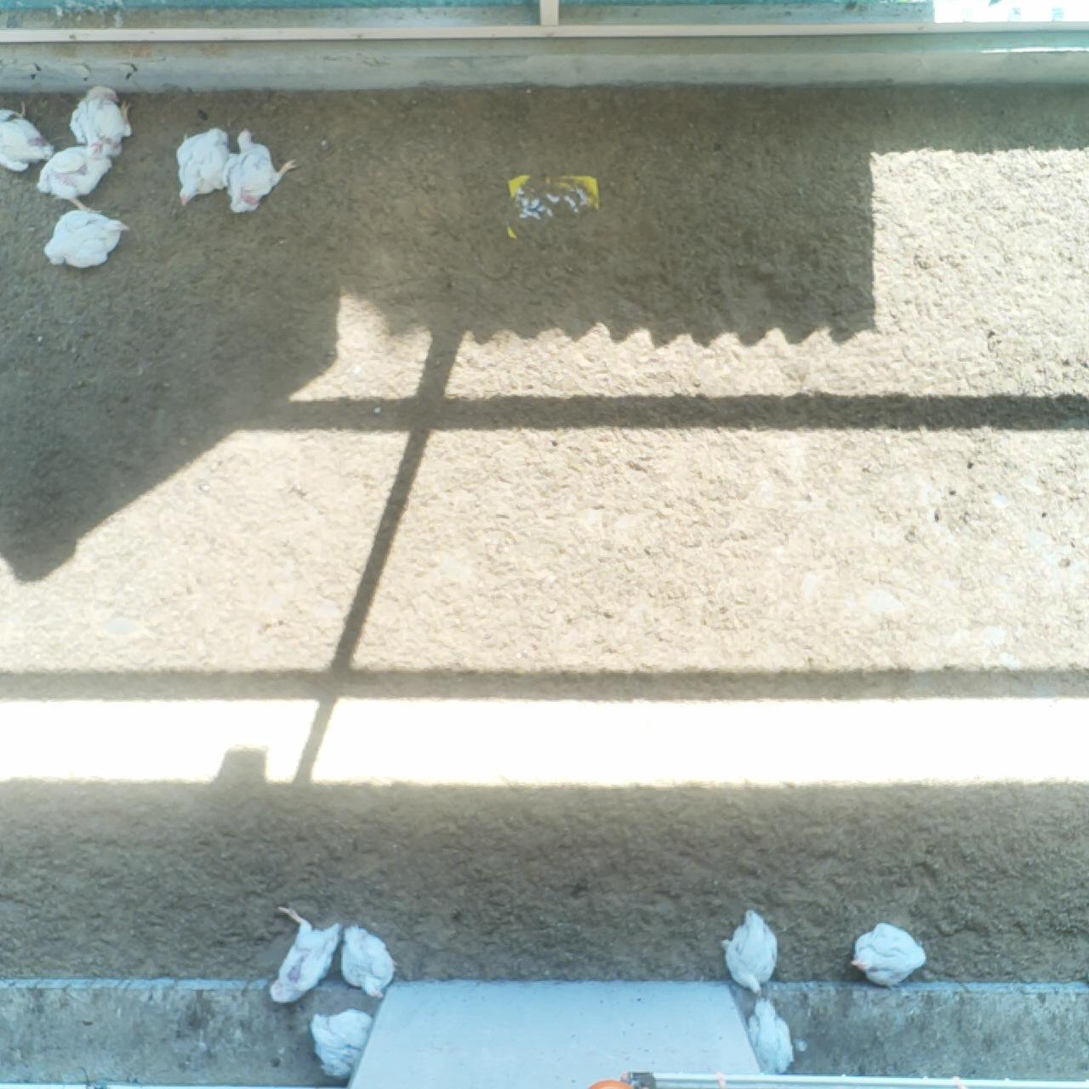chicken: (265, 902, 341, 1007), (219, 126, 299, 216), (34, 139, 121, 216), (305, 1007, 389, 1084), (844, 921, 931, 988), (173, 123, 241, 208), (720, 908, 783, 999), (737, 996, 800, 1086), (41, 208, 132, 269), (68, 82, 134, 163), (337, 921, 400, 1002), (0, 94, 55, 177)
